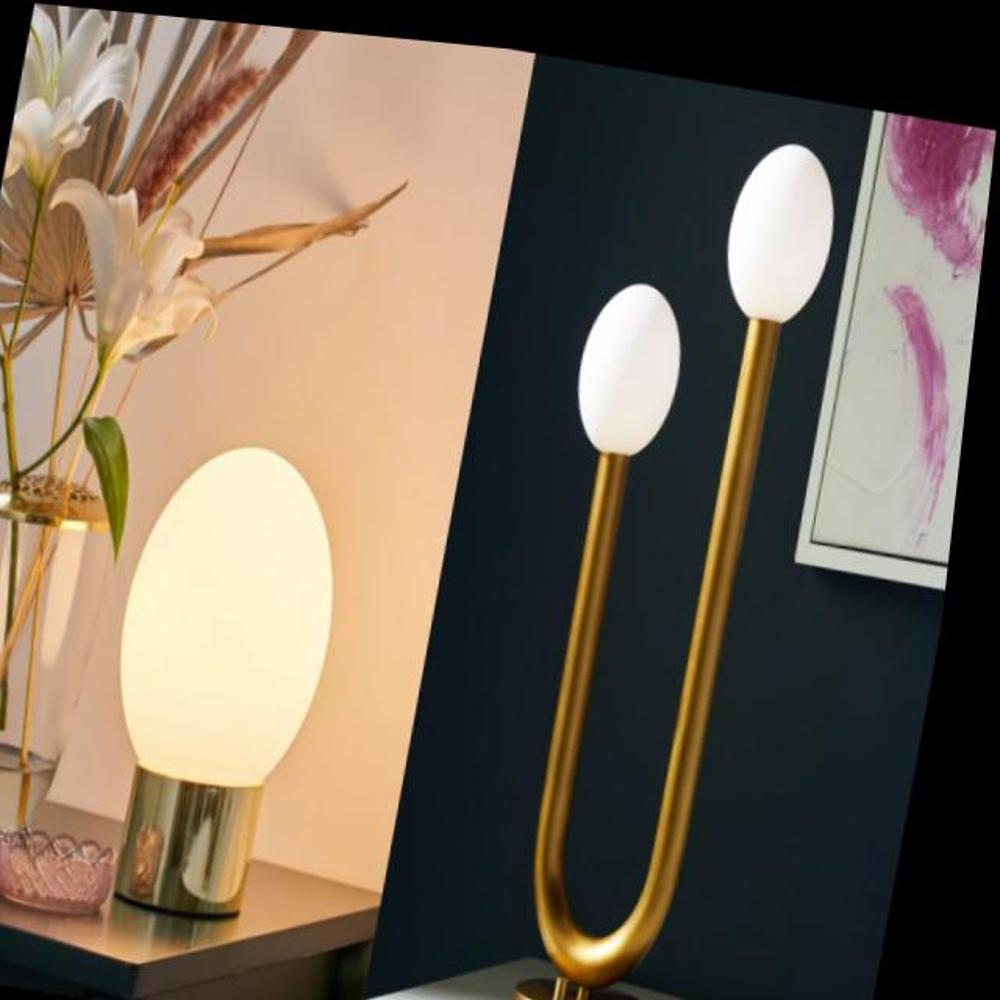shelf: (466, 78, 859, 1000), (86, 391, 387, 943)
